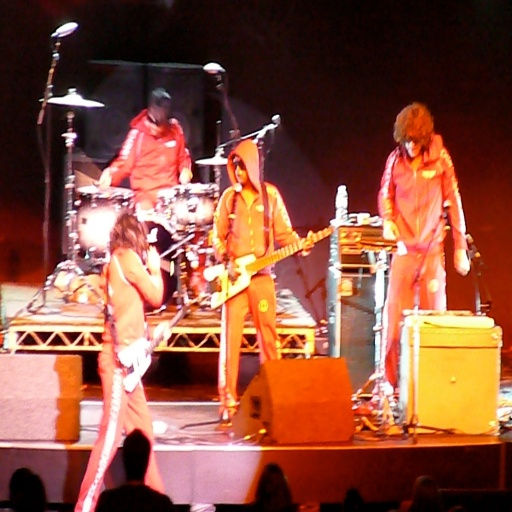hand: (452, 246, 472, 275), (297, 230, 316, 259), (152, 320, 172, 344), (145, 245, 158, 275), (227, 251, 242, 275), (383, 219, 400, 240), (176, 165, 193, 184), (98, 169, 110, 187)
